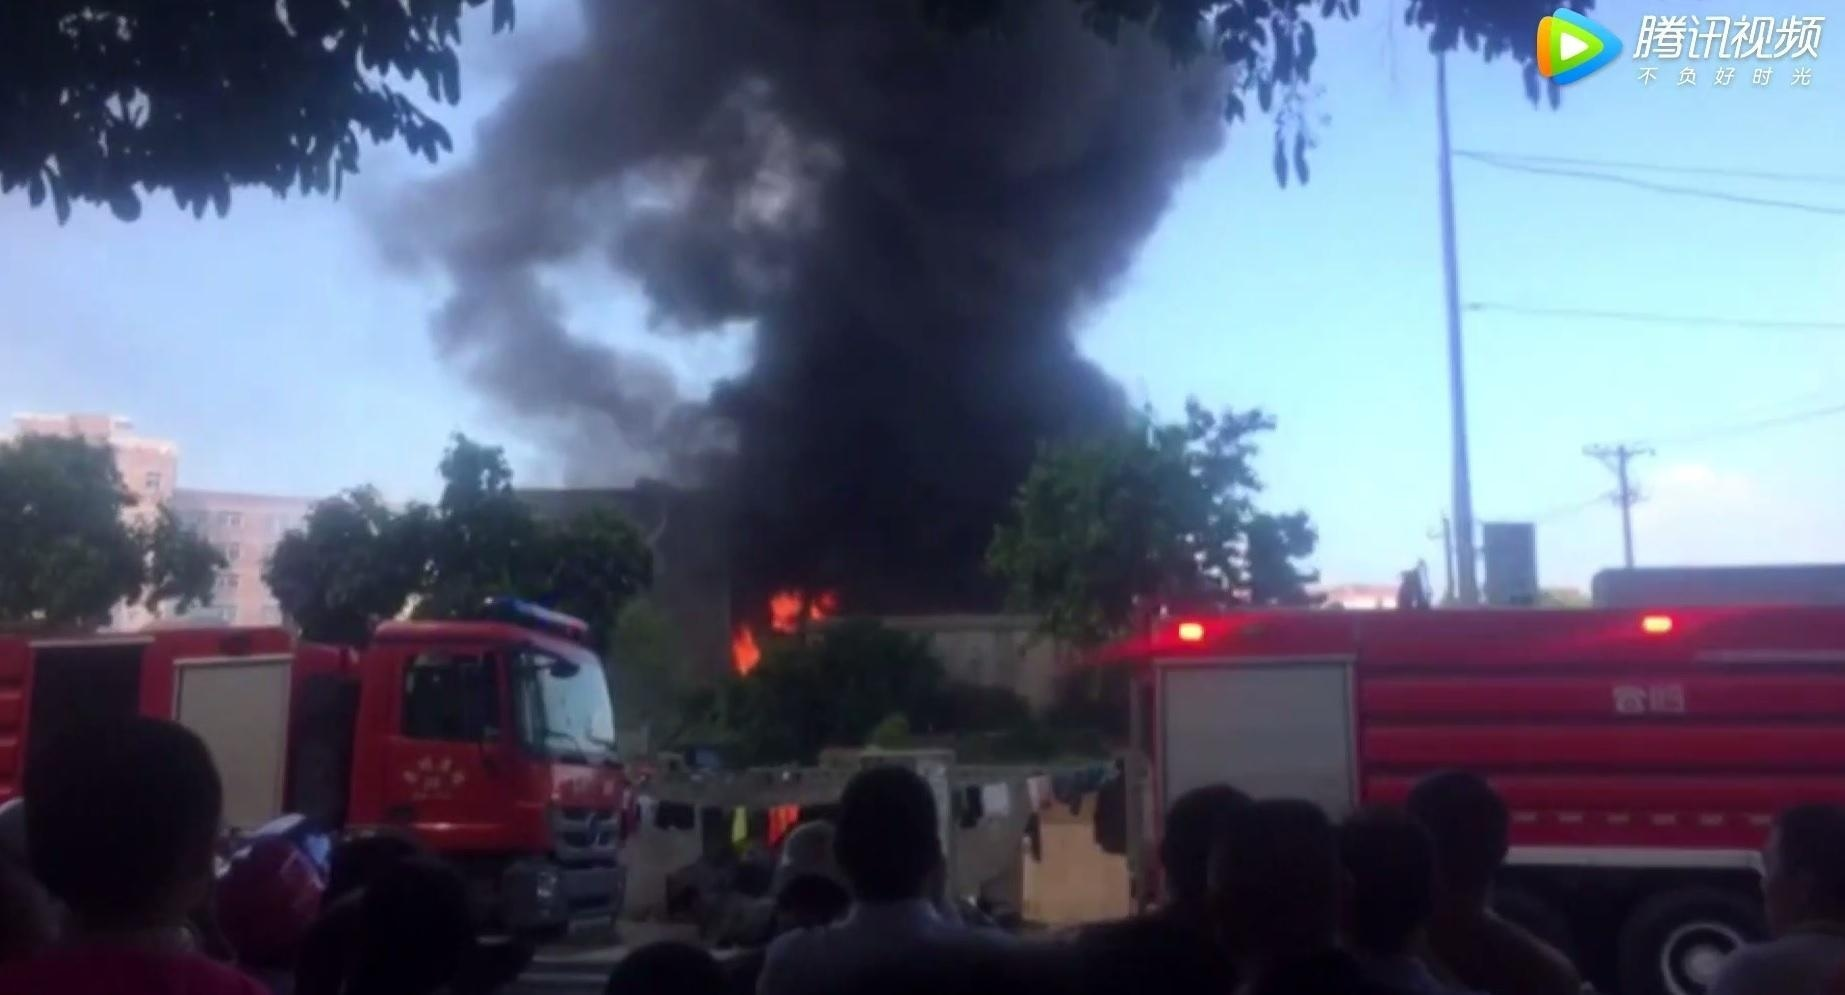fire: (724, 580, 836, 672)
